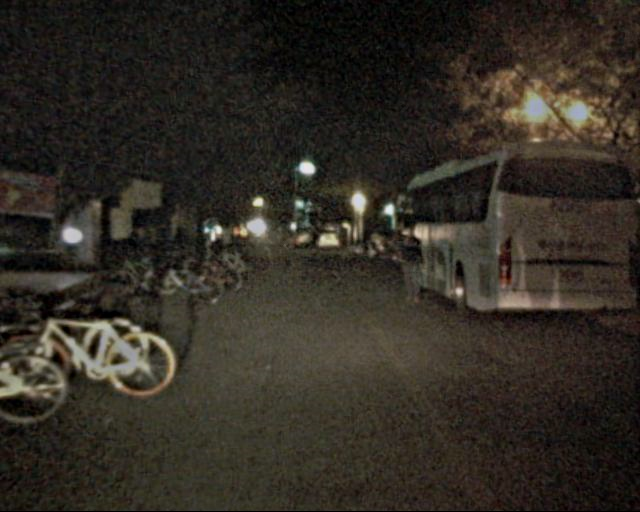person: (392, 220, 430, 312), (214, 217, 237, 268)
